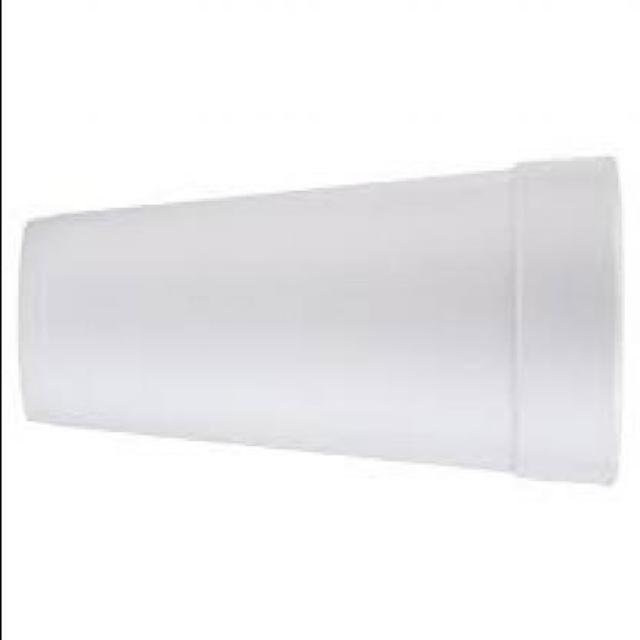PAPER: (26, 148, 620, 483)
